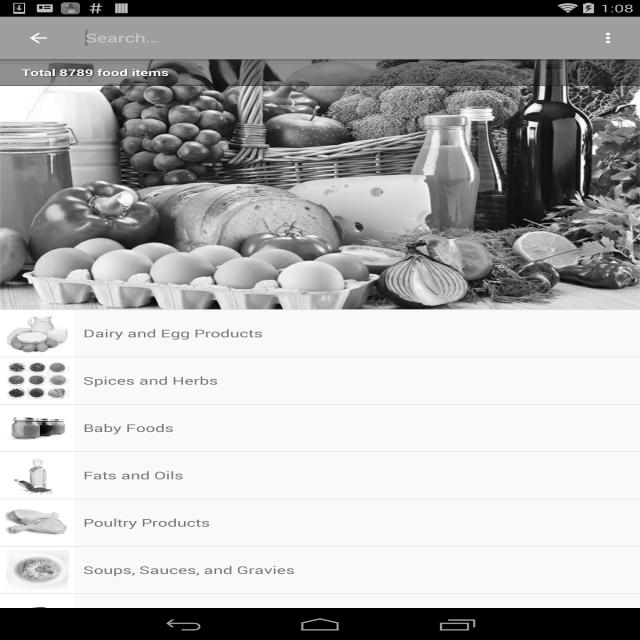EditText: (77, 26, 401, 50)
ImageButton: (9, 19, 68, 57)
ImageView: (0, 59, 640, 310), (0, 310, 75, 357), (0, 357, 75, 404), (0, 452, 75, 499), (0, 499, 75, 546), (0, 405, 75, 451), (0, 547, 75, 593), (0, 594, 75, 640), (589, 22, 631, 54)
TextView: (22, 59, 168, 86), (83, 563, 295, 577), (83, 326, 263, 340), (83, 373, 218, 388), (83, 515, 210, 530), (83, 468, 184, 482), (83, 421, 174, 435)
